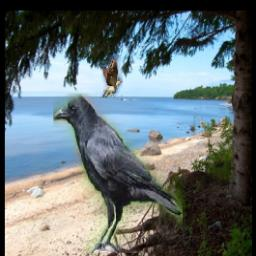Crow: (53, 93, 183, 253)
Cuckoo: (90, 56, 124, 99)
